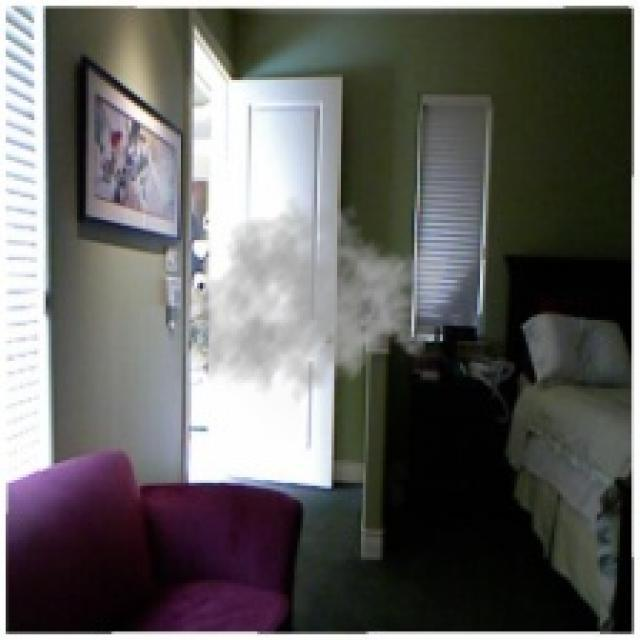Smoke: (177, 194, 449, 414)
